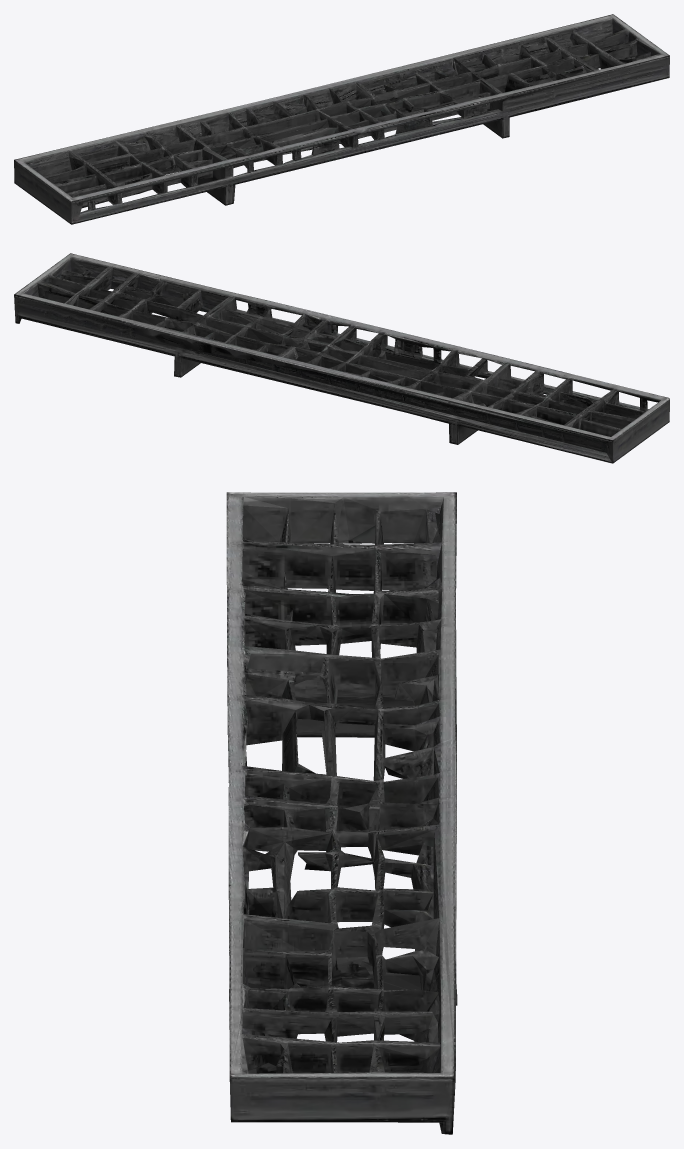
The model's file is ceiling-mesh.glb.
3 renders of one model, top to bottom at view 1: azimuth 30°, elevation 25°; view 2: azimuth 150°, elevation 25°; view 3: azimuth 270°, elevation 25°, orthographic. The views are drawn at different scales.
Visible parts, largest first — view 1: geometry_0; view 2: geometry_0; view 3: geometry_0.
Boxes of the visible parts, left/top/right/bottom form: geometry_0: left=14, top=14, right=669, bottom=224; geometry_0: left=14, top=253, right=669, bottom=463; geometry_0: left=226, top=492, right=457, bottom=1134.
Bounding box in the file's own units: 1 × 0.0697 × 0.167.
1 material, 1 textured.
